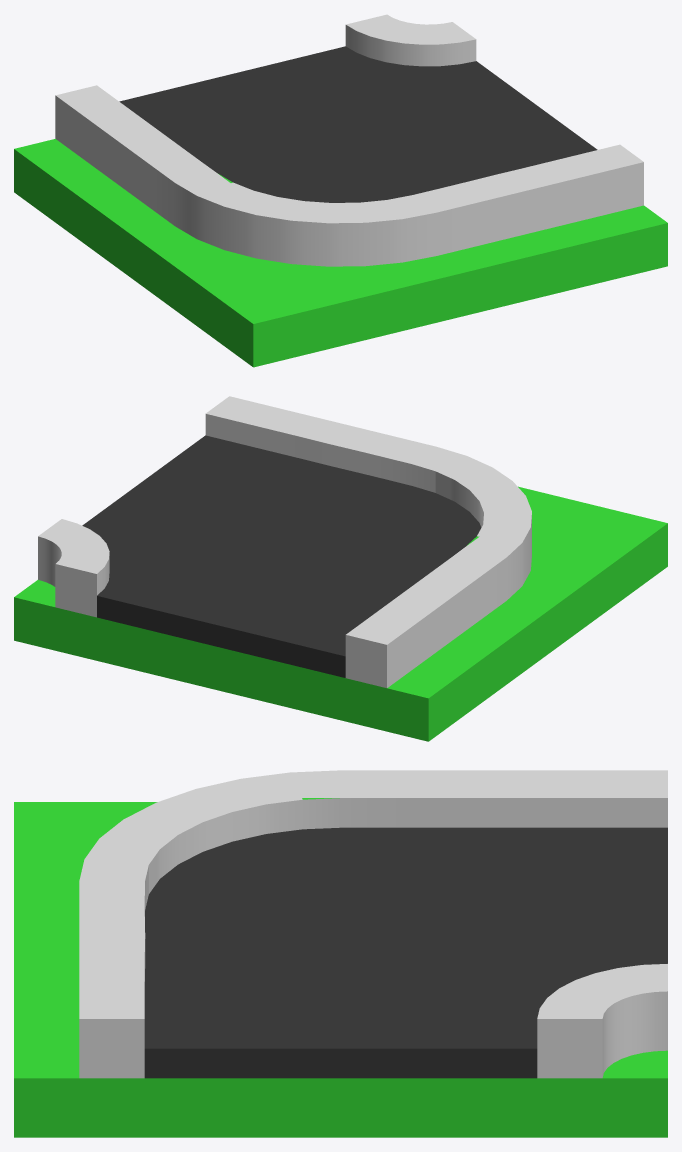
Rendered from StreetCorner.fbx.
3 renders of one model, top to bottom at view 1: azimuth 30°, elevation 25°; view 2: azimuth 150°, elevation 25°; view 3: azimuth 270°, elevation 25°, orthographic. The views are drawn at different scales.
Visible parts, largest first — view 1: StreetCorner; view 2: StreetCorner; view 3: StreetCorner.
Boxes of the visible parts, left/top/right/bottom form: StreetCorner: left=14, top=14, right=667, bottom=367; StreetCorner: left=14, top=396, right=667, bottom=741; StreetCorner: left=14, top=770, right=667, bottom=1137.
Size of the model in its own units: 200 by 40 by 200.
